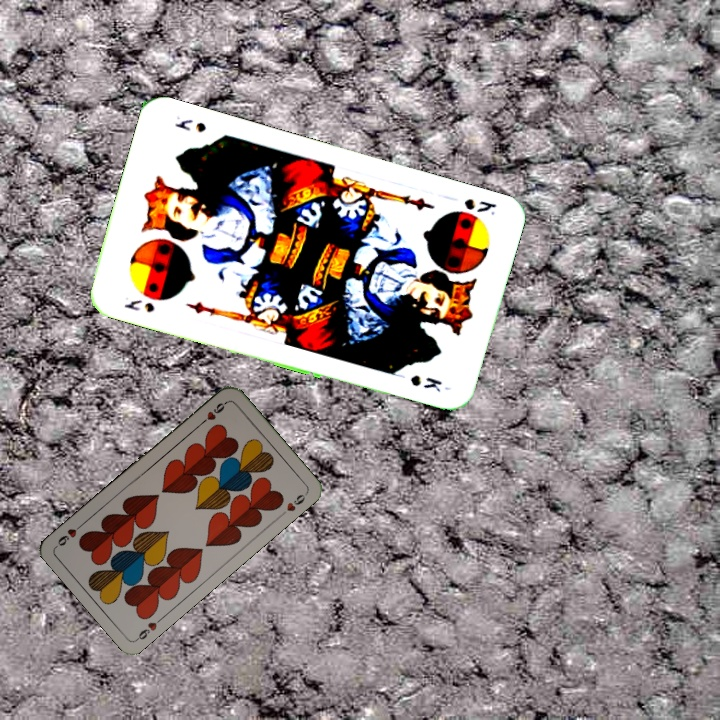H9: (196, 397, 230, 428), (132, 613, 166, 643)
SK: (460, 194, 499, 218), (120, 295, 158, 315)
